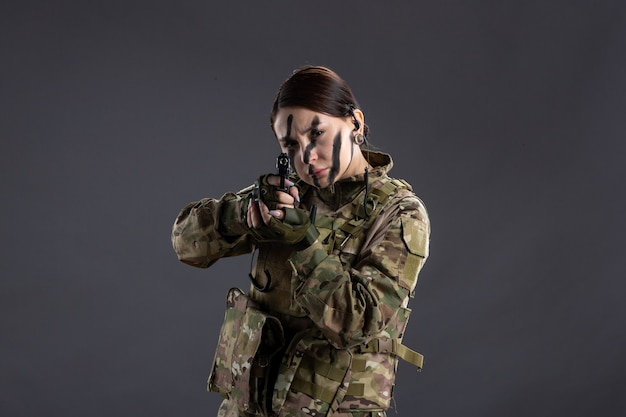gun: (273, 151, 293, 192)
